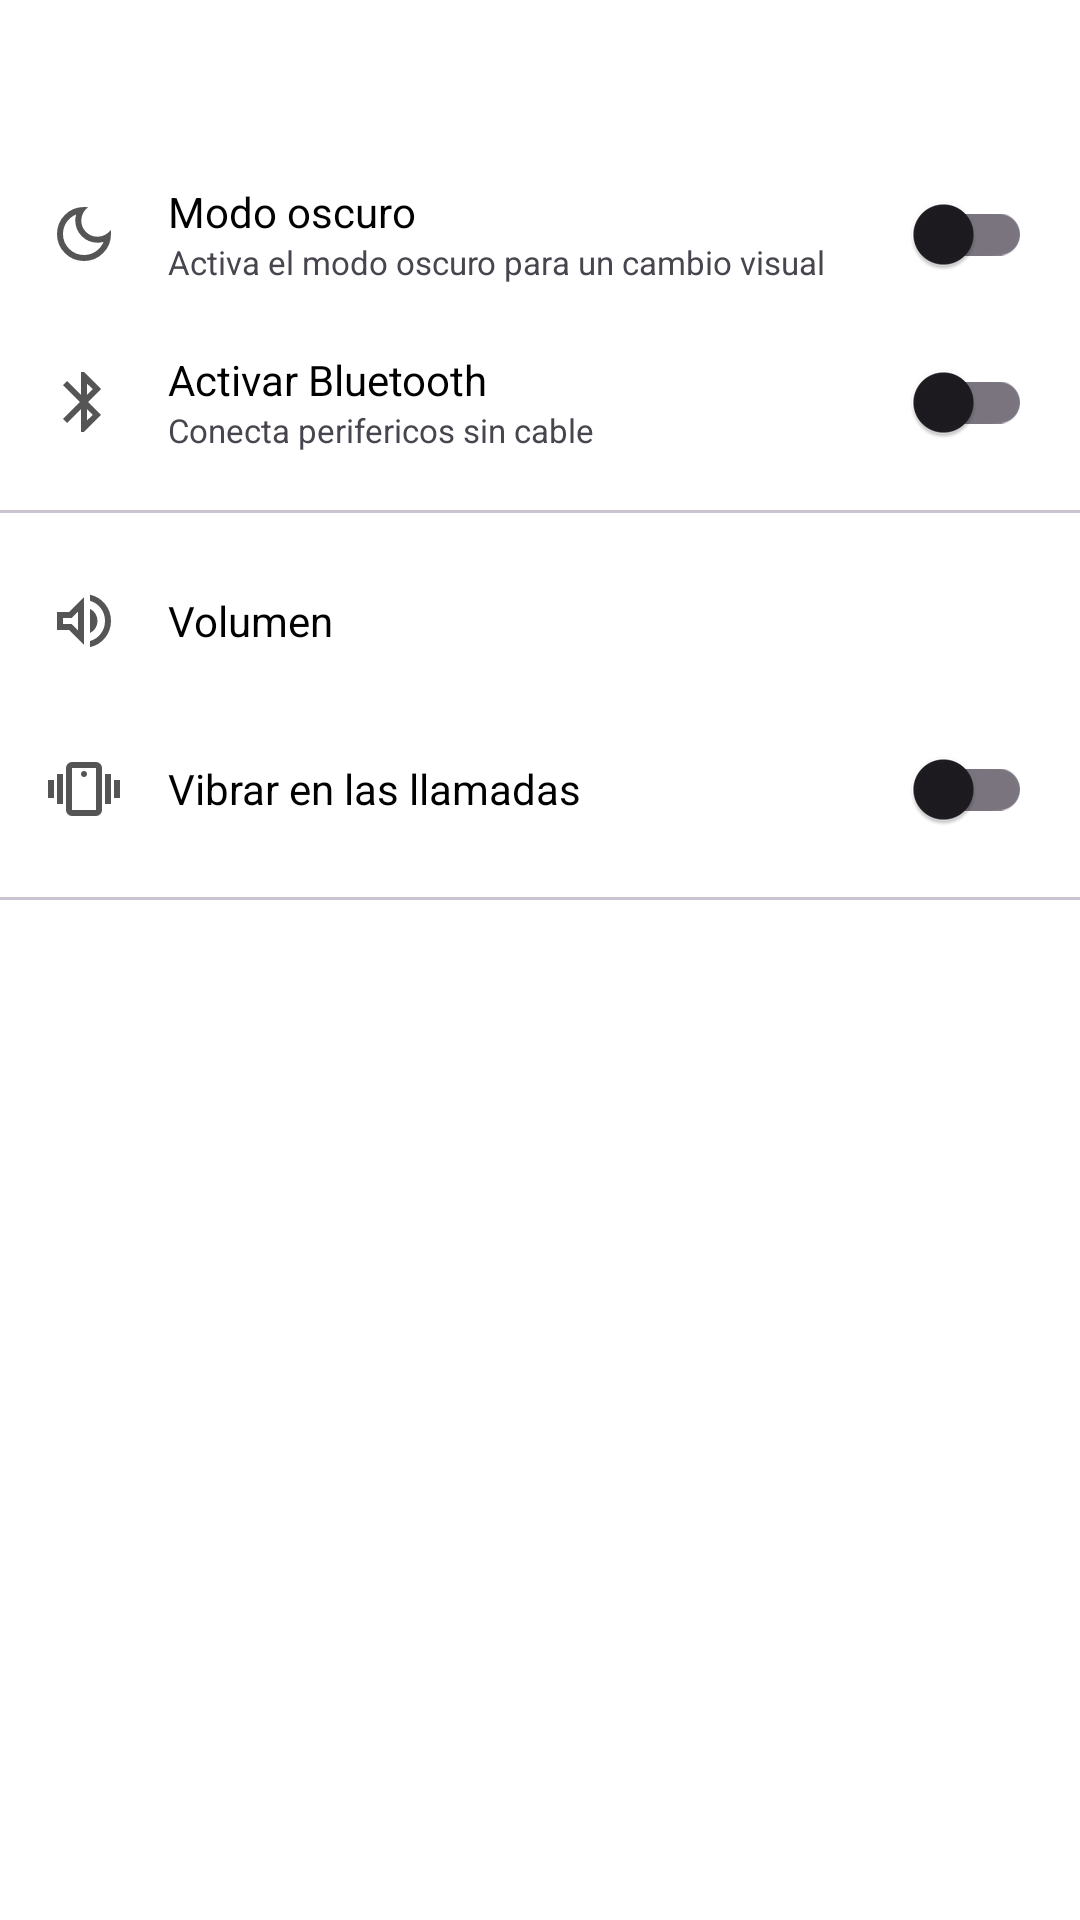

Where to tap for icons on this 1080x1920 app screen, as [x,y]:
mode: [84,234]
vibration: [84,789]
